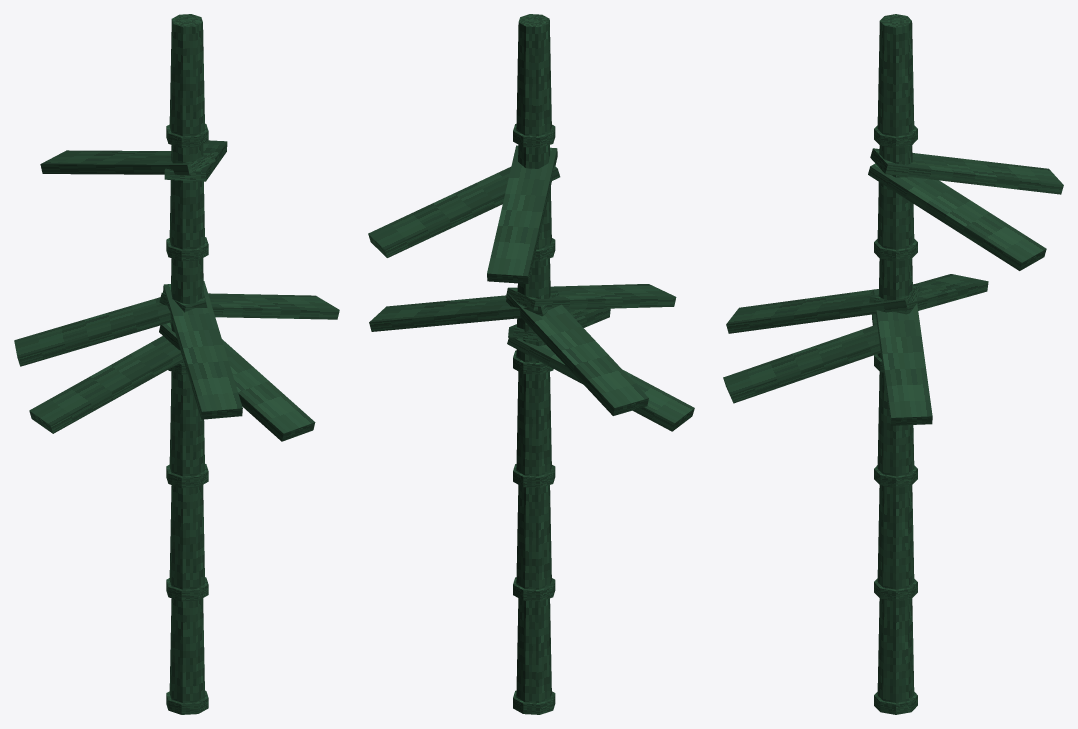
Rendered from bamboo_33.glb.
The picture shows the model from 3 angles, left to right: view 1: azimuth 30°, elevation 25°; view 2: azimuth 150°, elevation 25°; view 3: azimuth 270°, elevation 25°; orthographic projection.
Visible parts, largest first — view 1: Leaf.003, Leaf, Leaf.004, Stem.005, Leaf.002, Leaf.006, Stem.001, Stem, Leaf.001, Stem.002, Stem.004, Stem.003 (+6 smaller); view 2: Leaf.004, Leaf.006, Leaf.005, Stem.005, Leaf.001, Stem.001, Stem.002, Stem, Leaf.003, Leaf, Stem.003, Stem.004 (+5 smaller); view 3: Leaf.005, Leaf.001, Leaf.002, Leaf.006, Leaf.003, Stem.005, Stem, Stem.001, Stem.004, Stem.002, Leaf.004, Stem.003 (+5 smaller).
Part boxes in pixels (x1,y1,x2,y2): Leaf.003: (163,281,242,419); Leaf: (29,336,183,433); Leaf.004: (14,294,207,366); Stem.005: (169,14,204,136); Leaf.002: (159,322,315,441); Leaf.006: (40,150,215,174); Stem.001: (169,485,204,589); Stem: (169,598,204,702); Leaf.001: (159,292,339,319); Stem.002: (169,372,204,476); Stem.004: (169,145,204,249); Stem.003: (170,258,203,362); Leaf.004: (506,293,648,415); Leaf.006: (487,145,557,283); Leaf.005: (368,165,560,257); Stem.005: (516,14,551,136); Leaf.001: (369,290,559,331); Stem.001: (516,485,551,589); Stem.002: (516,371,551,476); Stem: (516,598,551,702); Leaf.003: (505,284,676,310); Leaf: (507,337,694,431); Stem.003: (516,258,550,362); Stem.004: (518,145,551,249); Leaf.005: (868,163,1046,270); Leaf.001: (873,289,932,425); Leaf.002: (723,324,880,403); Leaf.006: (870,148,1063,194); Leaf.003: (726,283,920,333); Stem.005: (877,14,914,136); Stem: (877,598,914,702); Stem.001: (877,485,914,589); Stem.004: (877,145,914,249); Stem.002: (877,372,914,476); Leaf.004: (869,274,988,314); Stem.003: (877,258,912,359).
Size of the model in its own units: 1.5 by 3.27 by 1.48.
Materials: 1 (1 with a texture image).
